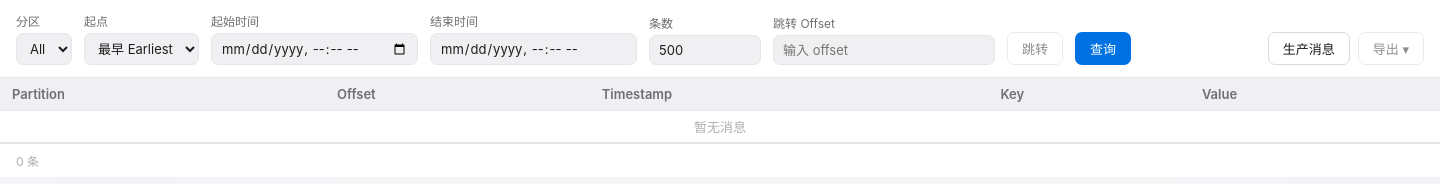
Test: MessageBrowser › disables the end-time filter until a start time is set
Expected: the cell with test id "browse-empty" is shown, top-left (0, 110), bottom-right (1439, 142)
Expected: the field with test id "filter-end-time" is disabled, top-left (430, 33), bottom-right (637, 65)
Setting a start time enables the end time.
Type "2023-11-15T08:30:00" into the field with test id "filter-start-time" at (314,49), box top-left (211, 33), bottom-right (418, 65)
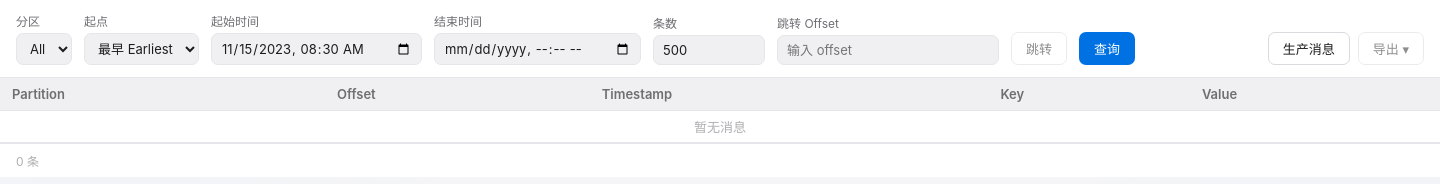
Now the field with test id "filter-end-time" is enabled, box top-left (434, 33), bottom-right (641, 65)
Clearing the start time disables it again.
Clear the field with test id "filter-start-time" at (316,49), box top-left (211, 33), bottom-right (422, 65)
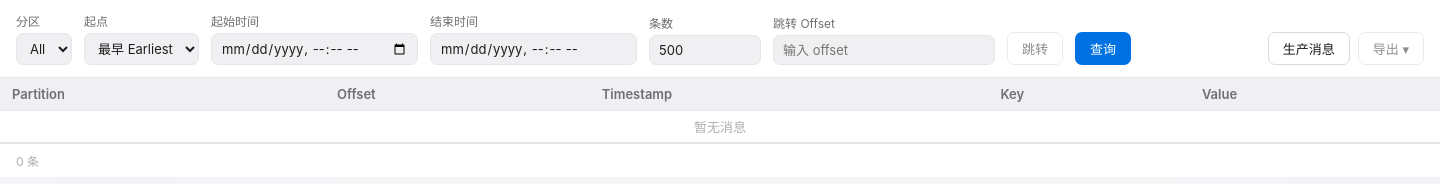
Now the field with test id "filter-end-time" is disabled, box top-left (430, 33), bottom-right (637, 65)
